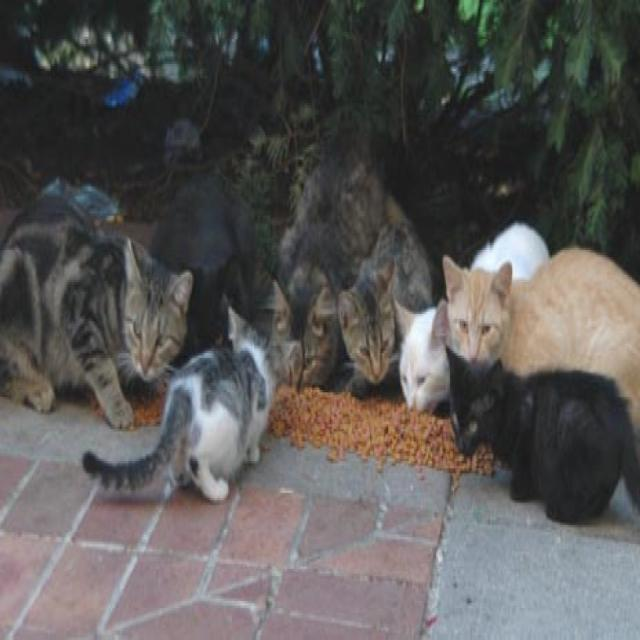cat: (0, 196, 192, 428), (82, 309, 275, 501), (444, 249, 640, 427), (446, 349, 640, 521), (278, 158, 386, 387), (150, 178, 258, 361), (339, 198, 431, 384), (396, 300, 450, 410), (471, 222, 549, 280)
